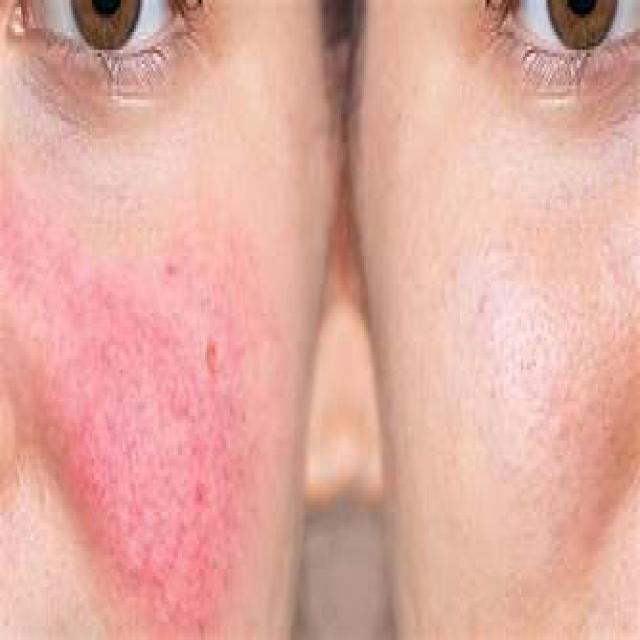Rosacea: (27, 294, 224, 587)
